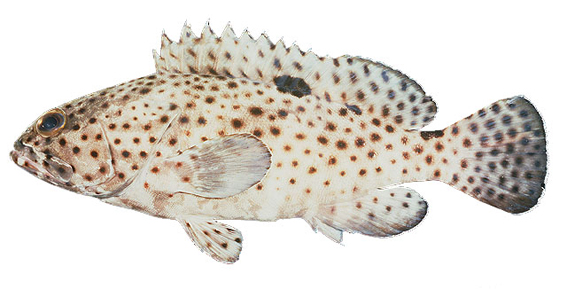fish: (10, 16, 548, 265)
